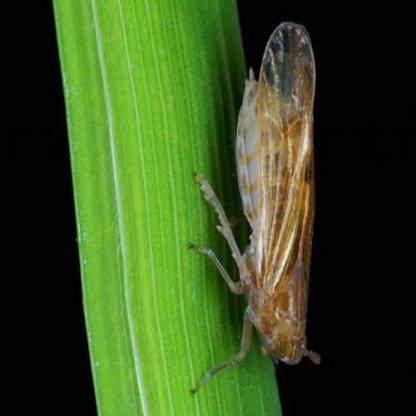brown-planthopper: (227, 18, 319, 370)
